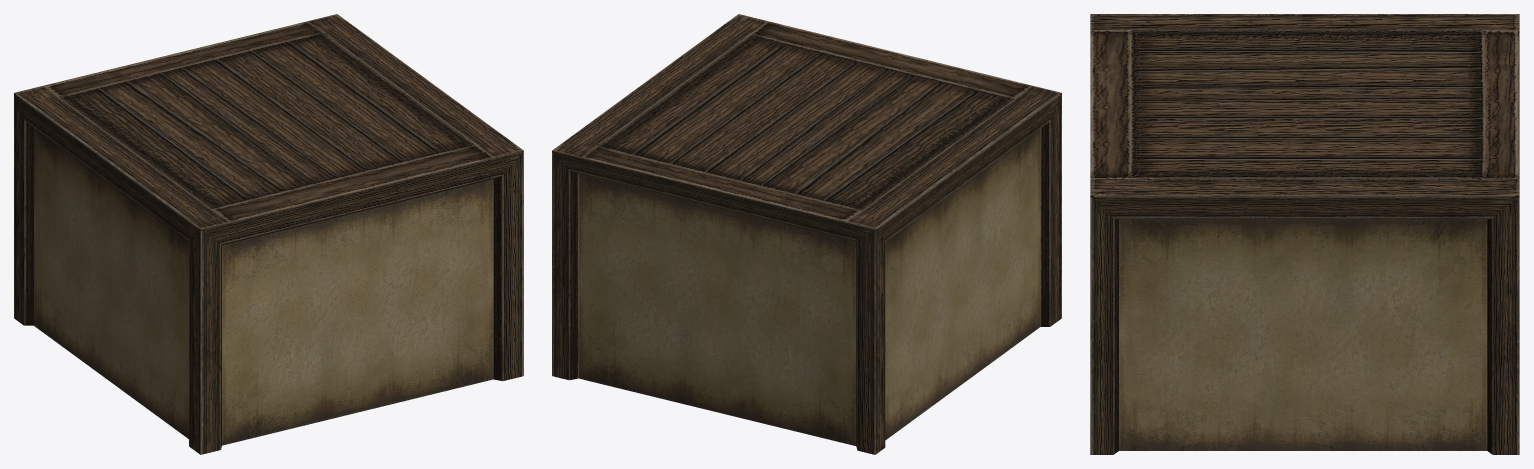
File: House_6X6_04a.fbx
The picture shows the model from 3 angles, left to right: view 1: azimuth 30°, elevation 25°; view 2: azimuth 150°, elevation 25°; view 3: azimuth 270°, elevation 25°; orthographic projection. The views are drawn at different scales.
Parts seen in each view (by area): view 1: House_6X6_04a; view 2: House_6X6_04a; view 3: House_6X6_04a.
Boxes of the visible parts, x1,y1,x2,y2 form: House_6X6_04a: (14, 14, 523, 454); House_6X6_04a: (552, 14, 1061, 454); House_6X6_04a: (1090, 14, 1519, 454).
Bounding box in the file's own units: 6 × 4 × 6.
